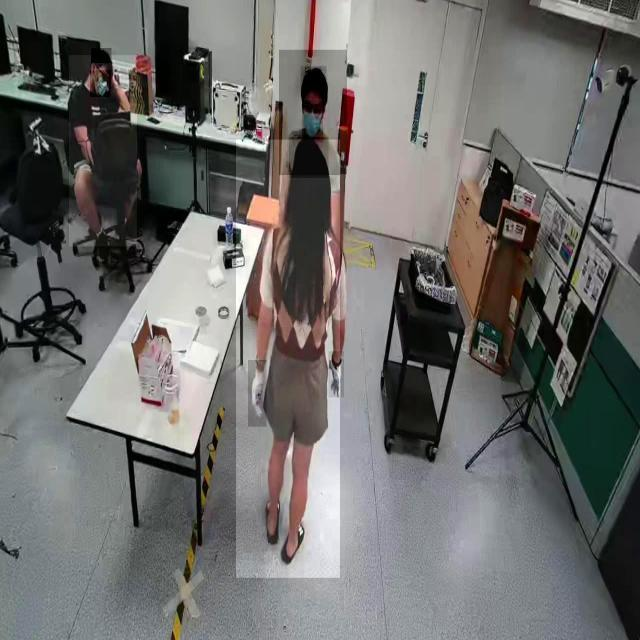face_mask: (302, 100, 324, 142), (90, 70, 111, 98)
hand_glove: (248, 360, 267, 428), (328, 351, 344, 398)
hand_noglove: (109, 65, 115, 90)
head_nohelmet: (289, 137, 329, 179), (301, 66, 327, 90), (91, 48, 112, 64)
person: (236, 140, 340, 578), (69, 55, 137, 247), (279, 50, 347, 175)
